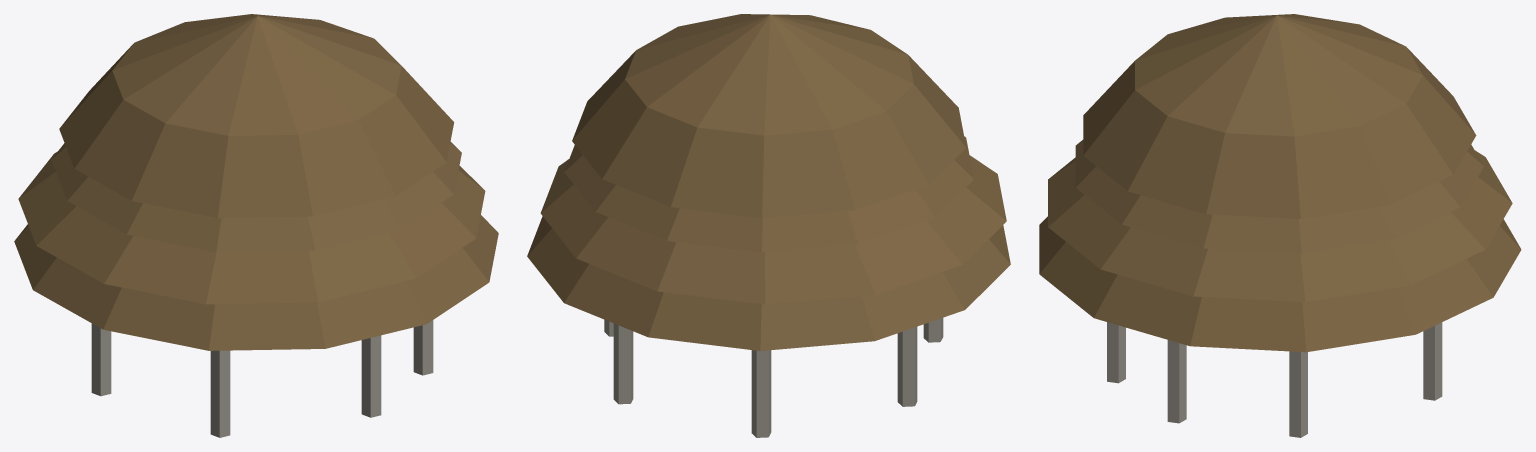
The model's file is MALOKA nivel 1 .fbx.
3 renders of one model, left to right at view 1: azimuth 30°, elevation 25°; view 2: azimuth 150°, elevation 25°; view 3: azimuth 270°, elevation 25°, orthographic.
Parts seen in each view (by area): view 1: Circle.001; view 2: Circle.001; view 3: Circle.001.
Boxes of the visible parts, x1,y1,x2,y2 form: Circle.001: [14, 14, 498, 437]; Circle.001: [527, 14, 1010, 437]; Circle.001: [1039, 14, 1521, 437].
Bounding box in the file's own units: 721 × 569 × 716.
